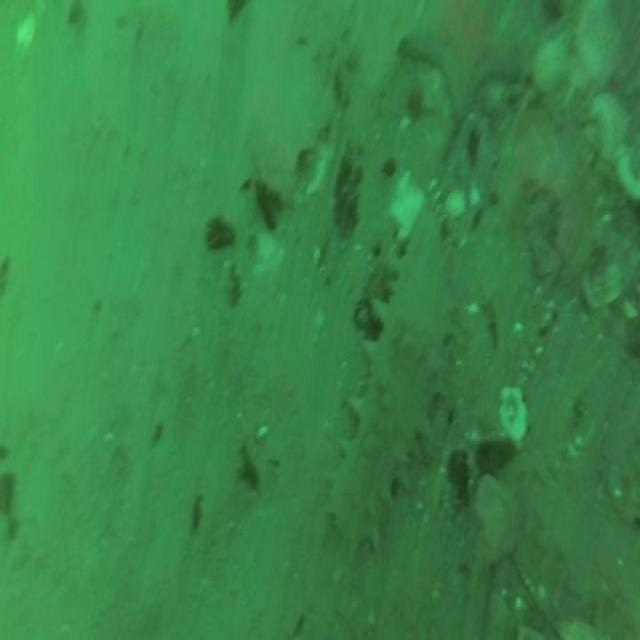holothurian: (327, 201, 456, 561)
starfish: (397, 3, 522, 122)
